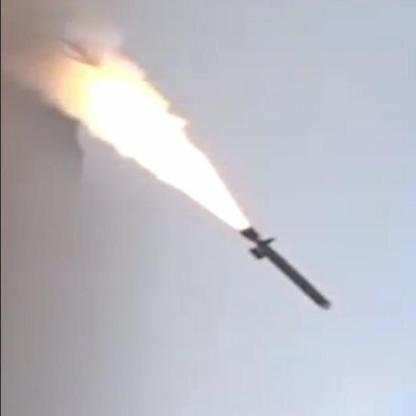MIL_TBM: (226, 219, 335, 311)
